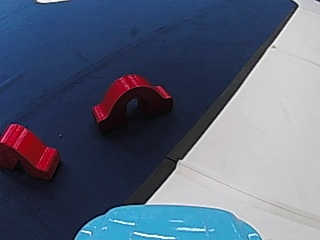bridge: (89, 70, 175, 130), (1, 120, 63, 181)
